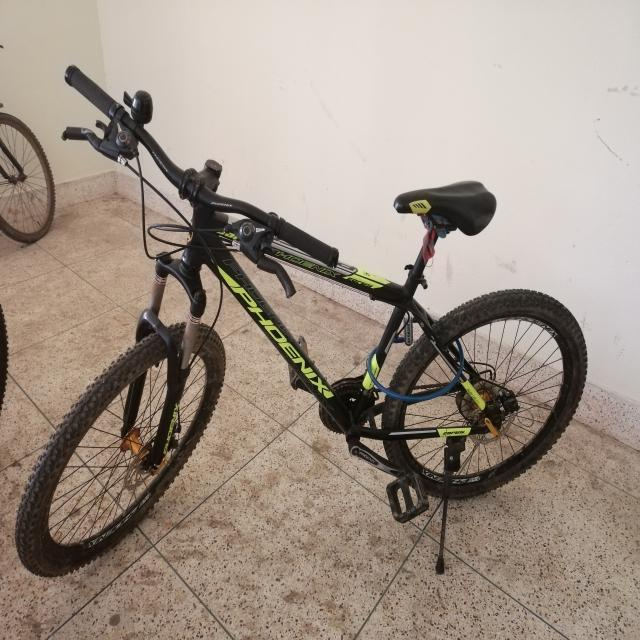Bicycle: (14, 54, 609, 603)
